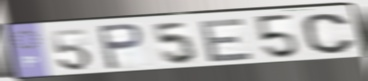5: (251, 12, 302, 60), (150, 20, 197, 66), (48, 27, 94, 72)
C: (300, 12, 358, 56)
E: (198, 16, 256, 64)
P: (95, 22, 146, 71)
